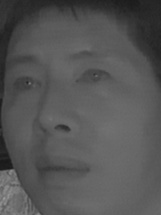eye: (74, 66, 114, 90), (4, 73, 43, 93)
mouth: (28, 153, 90, 188)
